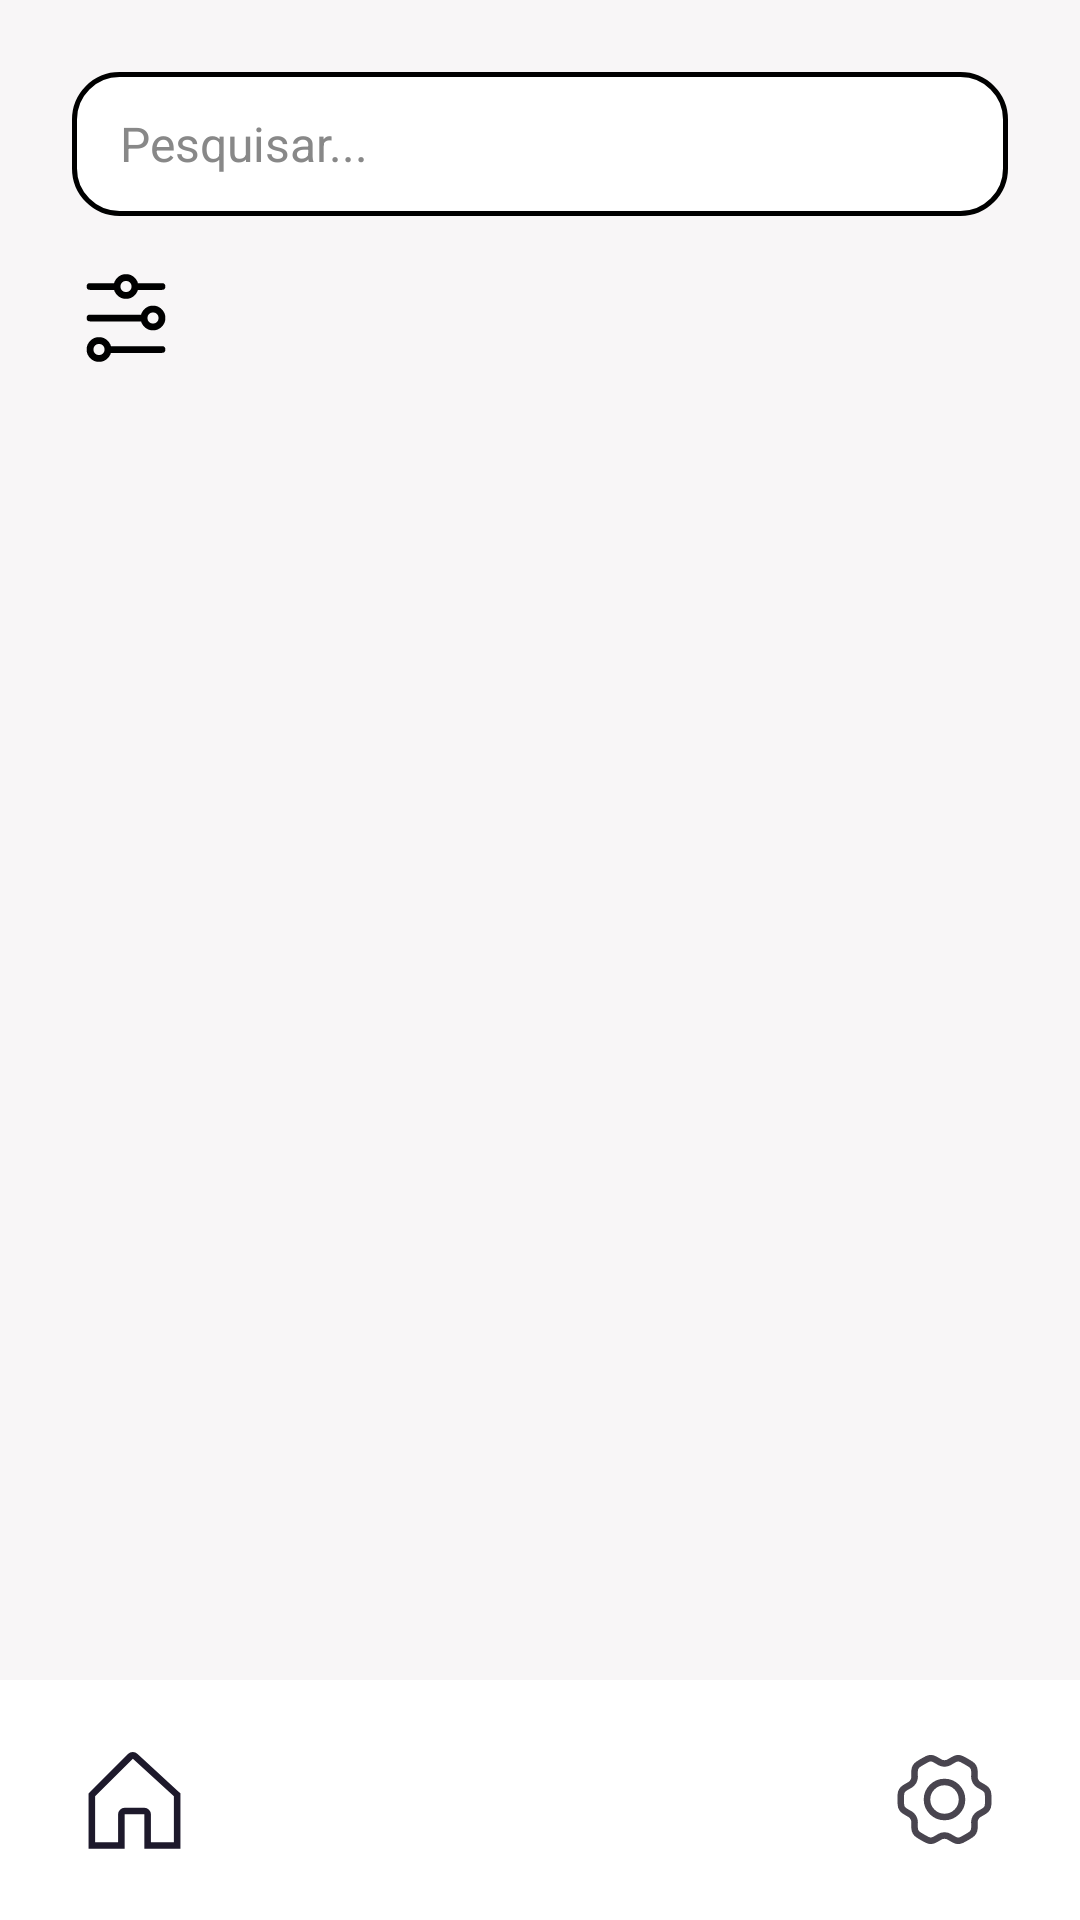

Named icons in this screenshot (1080 x 1920) and their centers, (x,y):
Filtro: (126,318)
